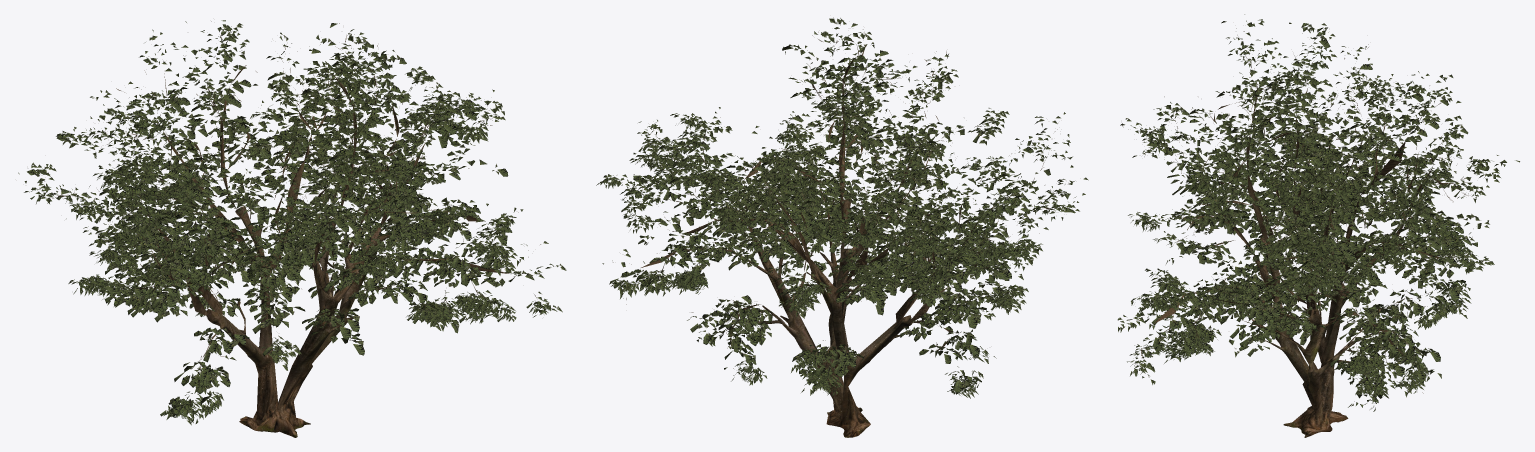
Rendered from jacaranda.glb.
3 views of the same model, side by side, from view 1: azimuth 30°, elevation 25°; view 2: azimuth 150°, elevation 25°; view 3: azimuth 270°, elevation 25° (orthographic). The views are drawn at different scales.
Visible parts, largest first — view 1: jacaranda_tree_LOD0; view 2: jacaranda_tree_LOD0; view 3: jacaranda_tree_LOD0.
Boxes of the visible parts, x1,y1,x2,y2 form: jacaranda_tree_LOD0: [18, 20, 566, 437]; jacaranda_tree_LOD0: [596, 17, 1088, 437]; jacaranda_tree_LOD0: [1117, 14, 1519, 437].
Size of the model in its own units: 23.92 by 19.33 by 18.85.
3 materials, 3 textured.
